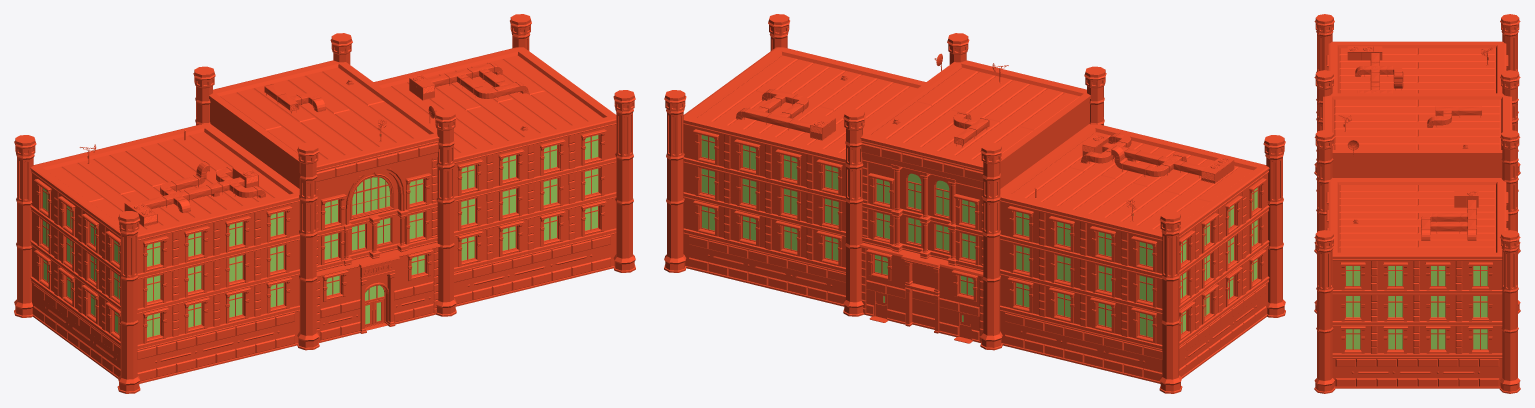
Rendered from SM_School_City.fbx.
3 renders of one model, left to right at view 1: azimuth 30°, elevation 25°; view 2: azimuth 150°, elevation 25°; view 3: azimuth 270°, elevation 25°, orthographic. The views are drawn at different scales.
Visible parts, largest first — view 1: SM_School_City_Base; view 2: SM_School_City_Base; view 3: SM_School_City_Base.
Part boxes in pixels (box(x1,y1,x2,y2)): SM_School_City_Base: box(14, 14, 635, 393); SM_School_City_Base: box(664, 14, 1285, 393); SM_School_City_Base: box(1314, 14, 1520, 393).
Size of the model in its own units: 46.19 by 17.01 by 17.91.
